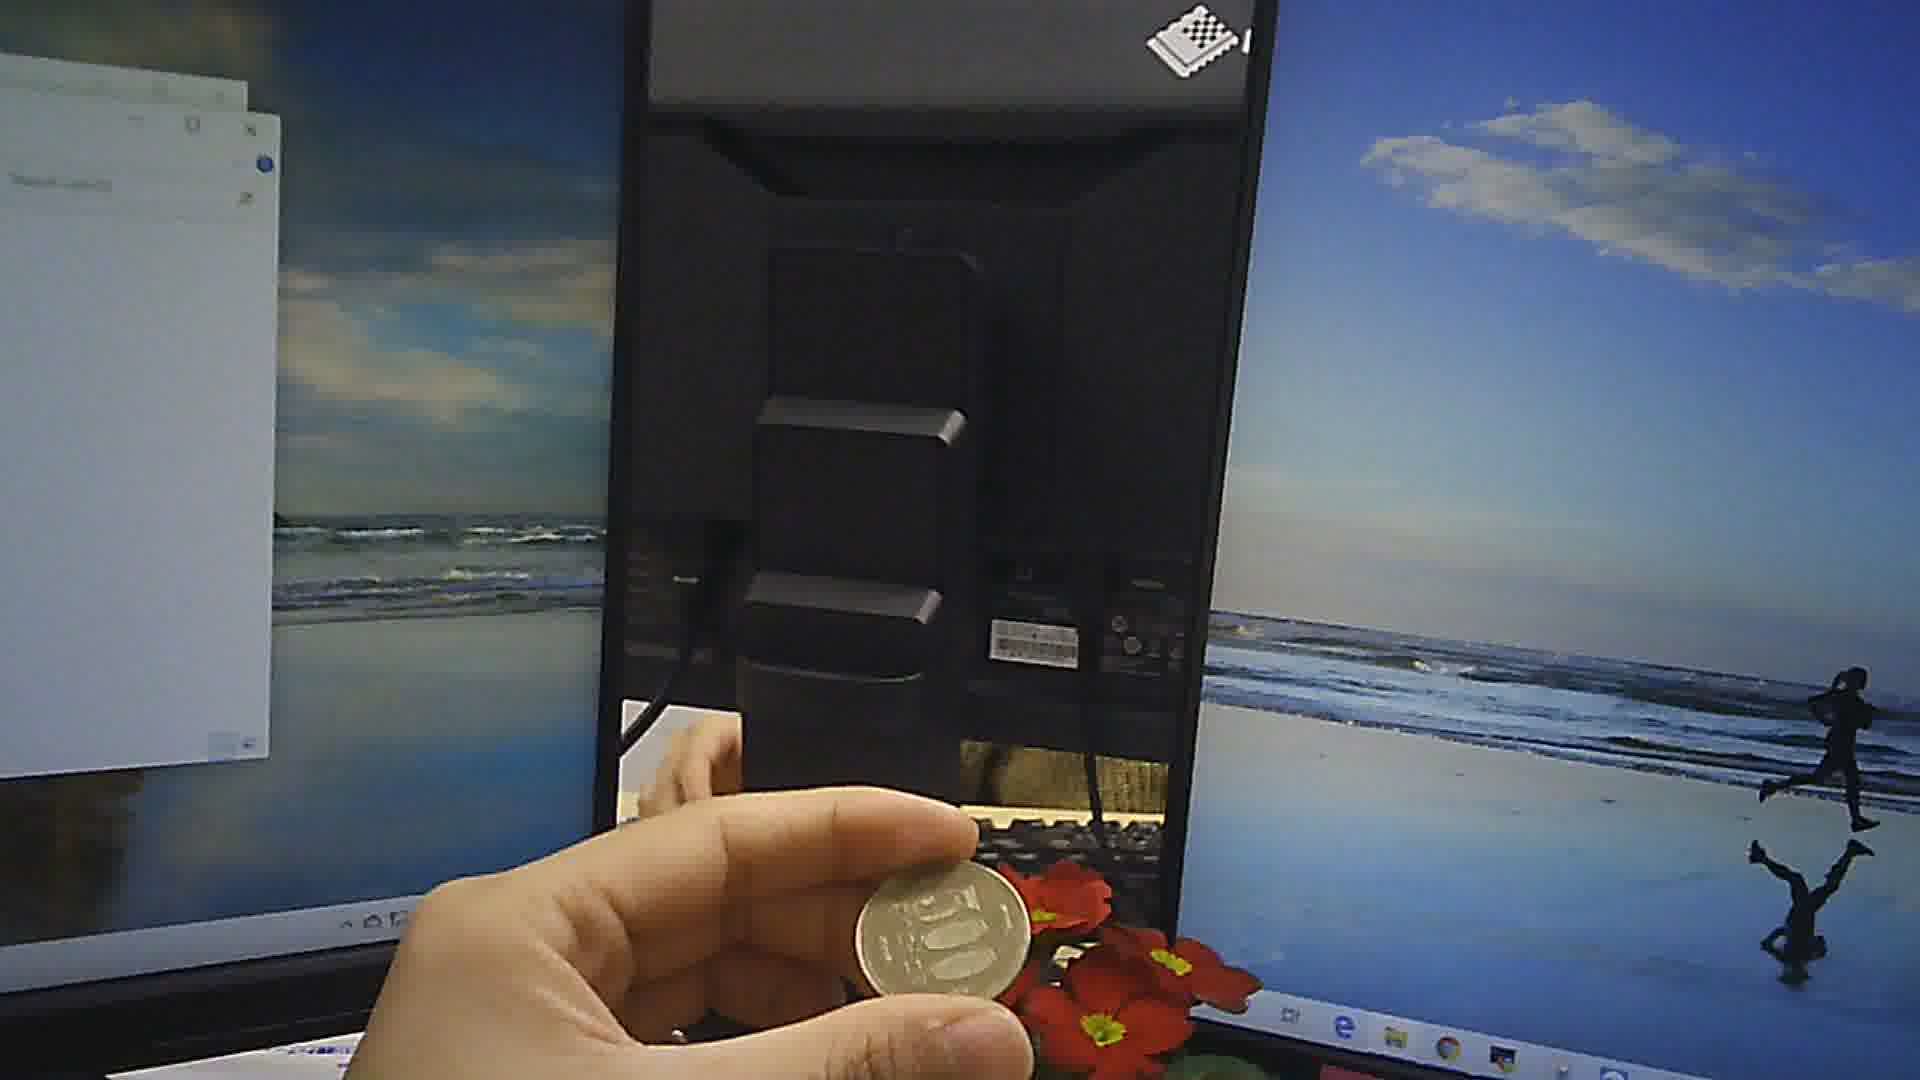500 Yen: (851, 852, 1029, 1006)
